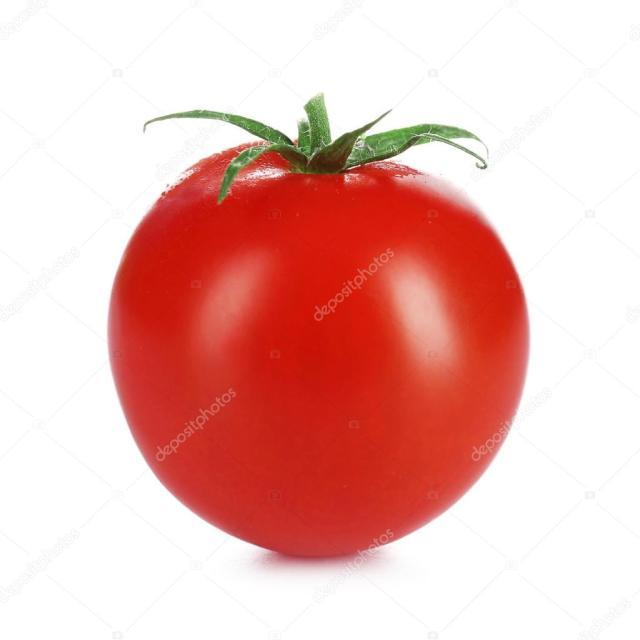kirmizi: (80, 114, 538, 572)
